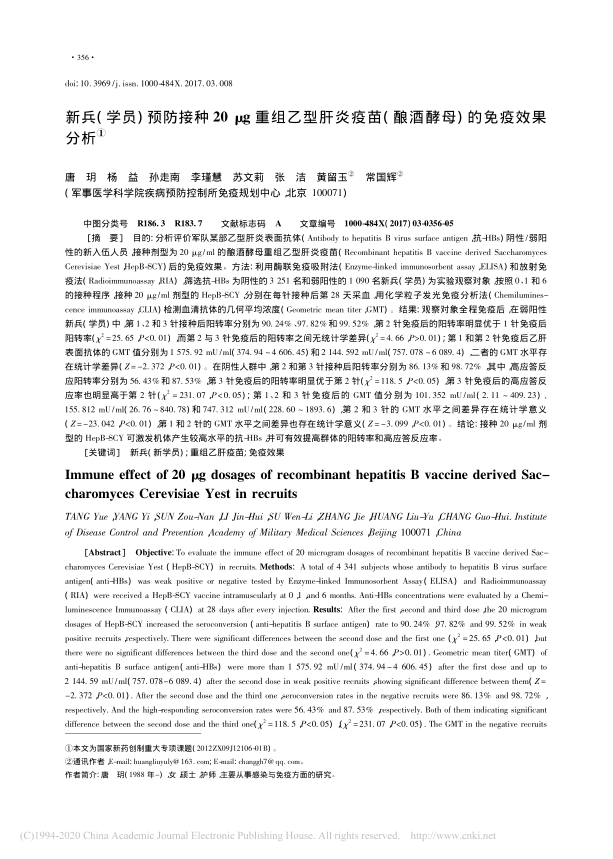Header: (64, 79, 232, 87), (68, 51, 98, 62)
Reference: (66, 743, 333, 779)
Text: (63, 218, 550, 459), (62, 545, 549, 730), (64, 509, 550, 538), (61, 171, 402, 199), (63, 79, 233, 87)
Title: (64, 108, 553, 148), (65, 467, 552, 501)
